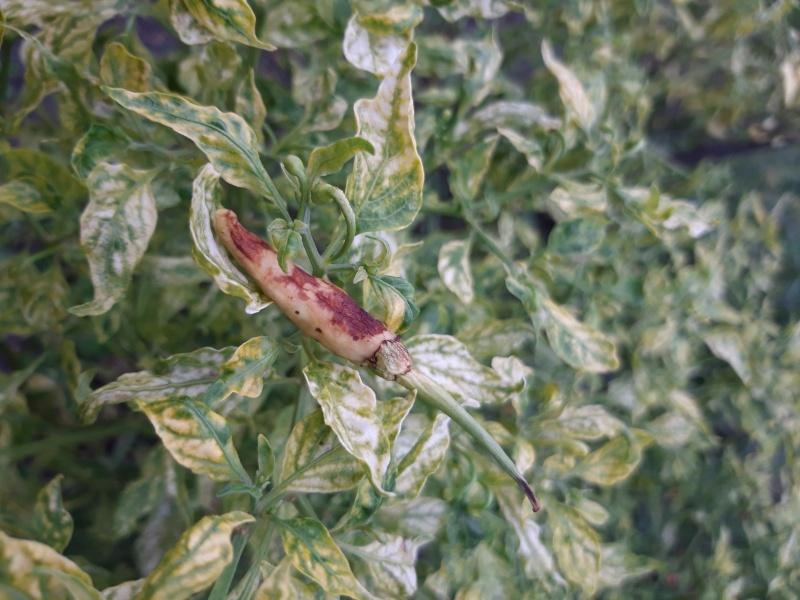antraknosa: (207, 206, 397, 368)
